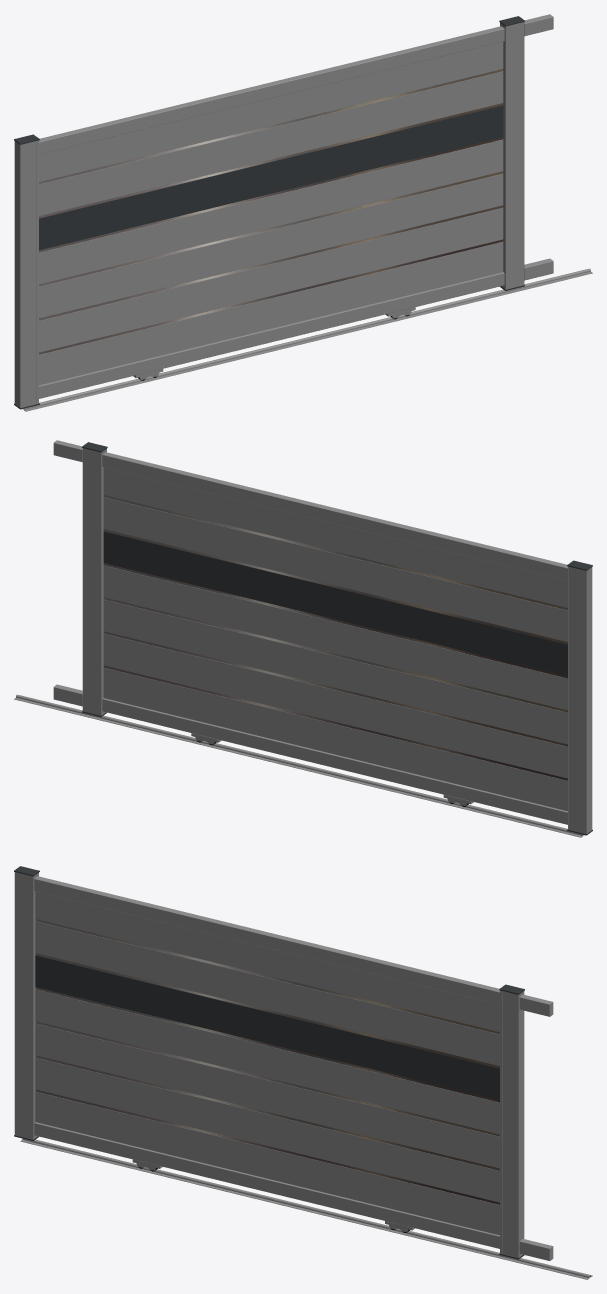
3 views of the same model, one above another, from view 1: azimuth 30°, elevation 25°; view 2: azimuth 150°, elevation 25°; view 3: azimuth 330°, elevation 25° (orthographic).
Parts seen in each view (by area): view 1: Shape188, Shape184, Shape170, Shape180, Shape176, Shape1, Shape192, Shape096, Shape095, Shape107412643, Shape107413021, Rail (+6 smaller); view 2: Shape184, Shape188, Shape180, Shape176, Shape170, Shape1, Shape192, Shape096, Shape095, Shape107412643, Shape107413021, Rail (+6 smaller); view 3: Shape188, Shape184, Shape180, Shape176, Shape170, Shape1, Shape192, Shape096, Shape095, Shape107413021, Shape107412643, Rail (+6 smaller).
Boxes of the visible parts, bbox=[...] form: Shape188: bbox=[39, 71, 503, 216]; Shape184: bbox=[39, 105, 503, 250]; Shape170: bbox=[39, 207, 503, 352]; Shape180: bbox=[39, 139, 503, 284]; Shape176: bbox=[39, 173, 503, 318]; Shape1: bbox=[39, 241, 503, 385]; Shape192: bbox=[39, 41, 503, 181]; Shape096: bbox=[39, 14, 553, 154]; Shape095: bbox=[39, 258, 553, 398]; Shape107412643: bbox=[14, 140, 38, 407]; Shape107413021: bbox=[500, 22, 524, 289]; Rail: bbox=[22, 268, 592, 411]; Shape184: bbox=[103, 531, 567, 676]; Shape188: bbox=[103, 497, 567, 641]; Shape180: bbox=[103, 565, 567, 710]; Shape176: bbox=[103, 599, 567, 744]; Shape170: bbox=[103, 633, 567, 778]; Shape1: bbox=[103, 667, 567, 811]; Shape192: bbox=[103, 467, 567, 607]; Shape096: bbox=[53, 440, 567, 580]; Shape095: bbox=[53, 684, 567, 824]; Shape107412643: bbox=[568, 566, 592, 833]; Shape107413021: bbox=[82, 448, 106, 715]; Rail: bbox=[14, 694, 584, 837]; Shape188: bbox=[35, 921, 499, 1066]; Shape184: bbox=[35, 955, 499, 1100]; Shape180: bbox=[35, 989, 499, 1134]; Shape176: bbox=[35, 1023, 499, 1168]; Shape170: bbox=[35, 1057, 499, 1202]; Shape1: bbox=[35, 1091, 499, 1235]; Shape192: bbox=[35, 891, 499, 1031]; Shape096: bbox=[34, 876, 553, 1016]; Shape095: bbox=[34, 1122, 553, 1260]; Shape107413021: bbox=[500, 990, 524, 1257]; Shape107412643: bbox=[14, 872, 38, 1139]; Rail: bbox=[20, 1138, 592, 1279].
Bounding box in the file's own units: 3638 × 1636 × 70.
Materials: 8 (4 with a texture image).
